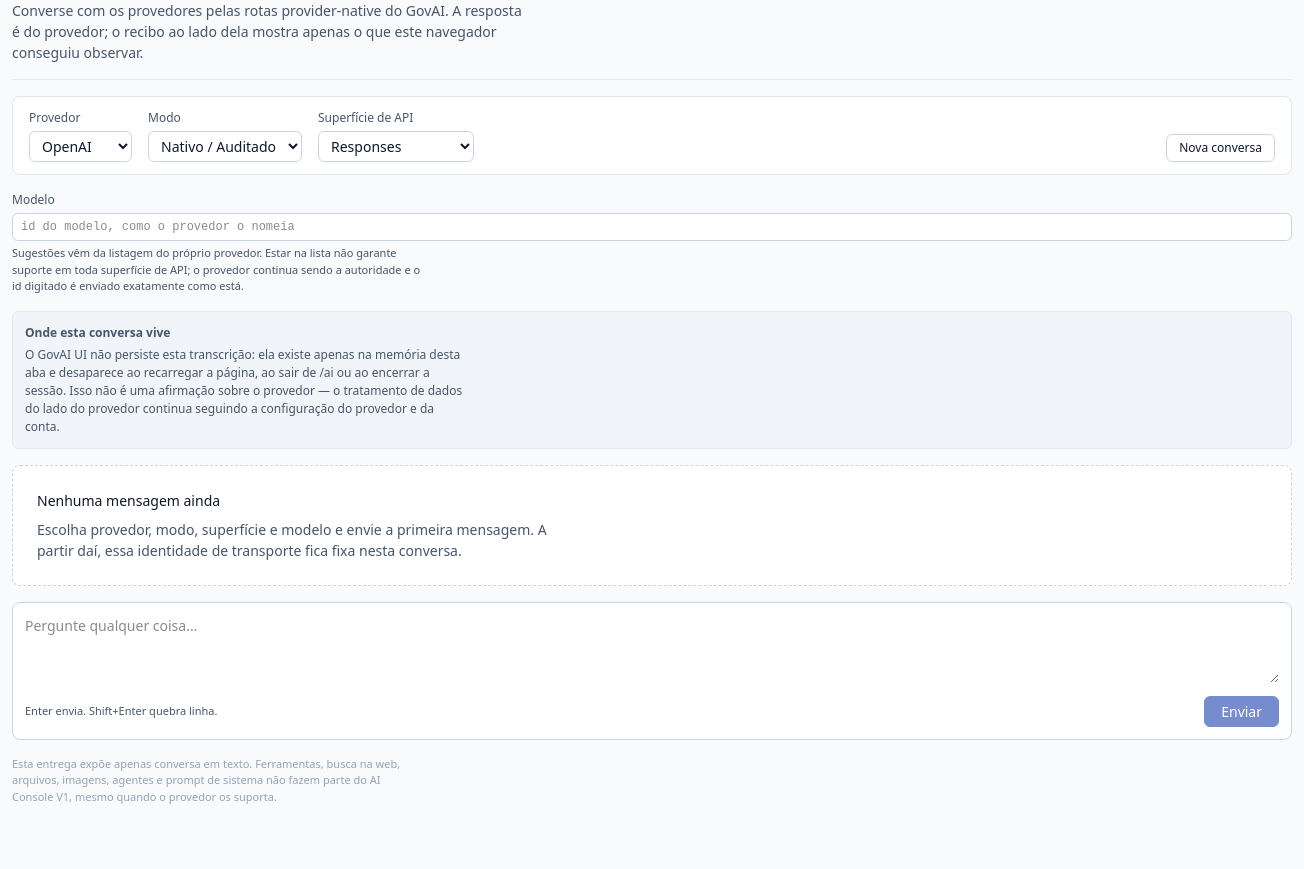
it: ★ recommendation and applied are TWO facts, never one › renders decision=ask + applied=forwarded without a word of approval or blocking
Select "Governado" in the dropdown with test id "mode-select" at (225, 146), box x1=148 y1=131 x2=302 y2=162
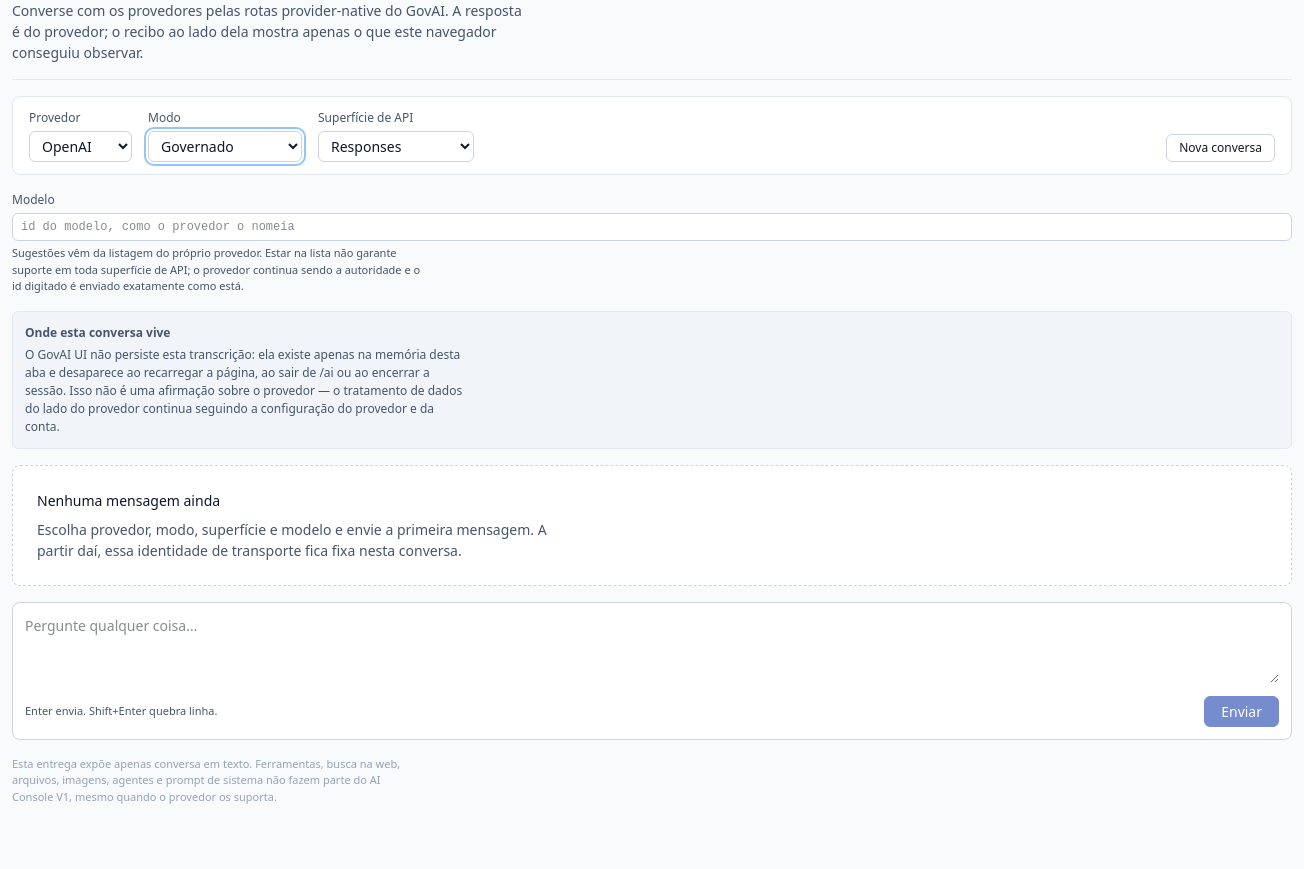
Type "a-model" into the field with test id "model-input".
click(652, 227); type("a-model")  # box x1=12 y1=213 x2=1292 y2=241
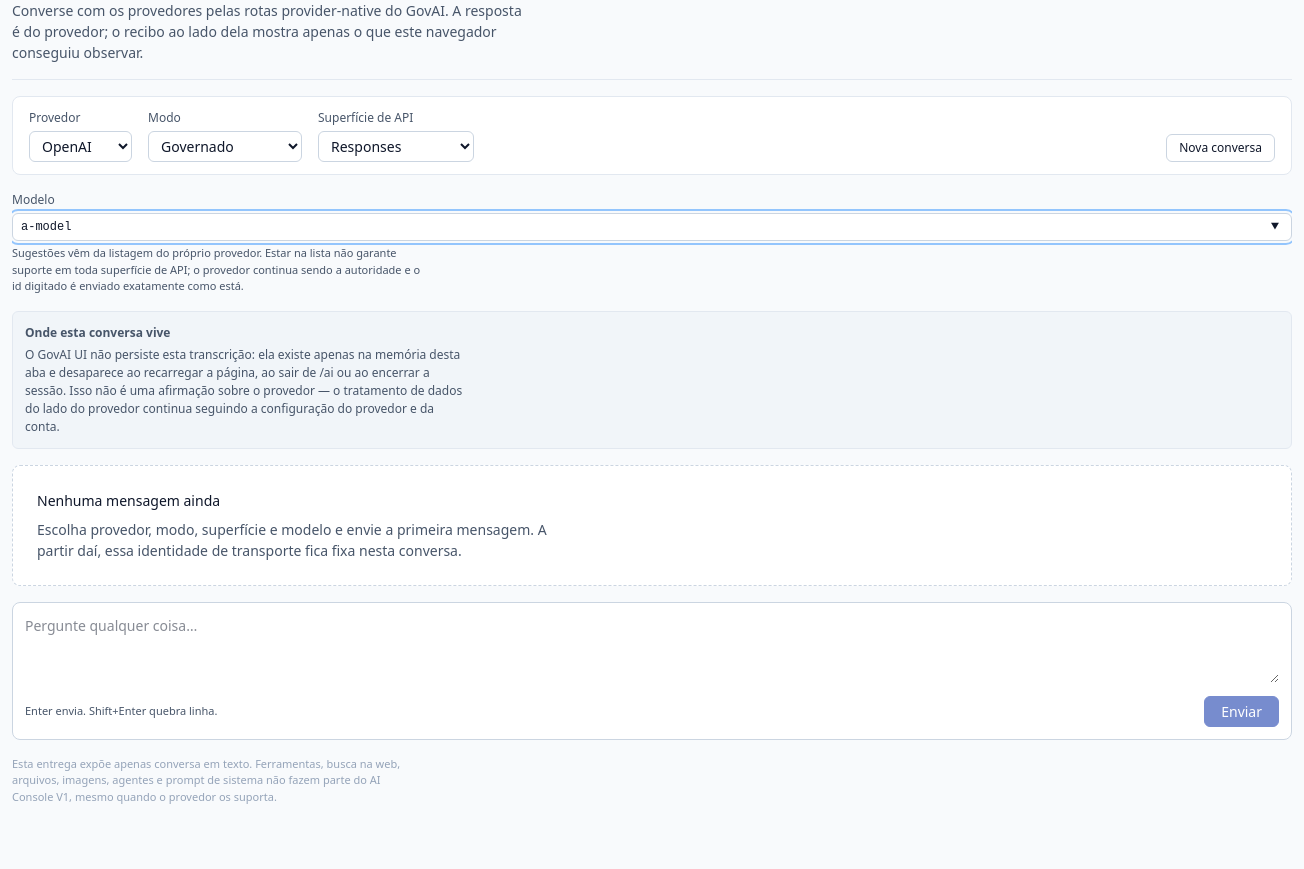
Type "a question" into the text box with test id "composer-input".
click(652, 649); type("a question")  # box x1=25 y1=614 x2=1279 y2=683
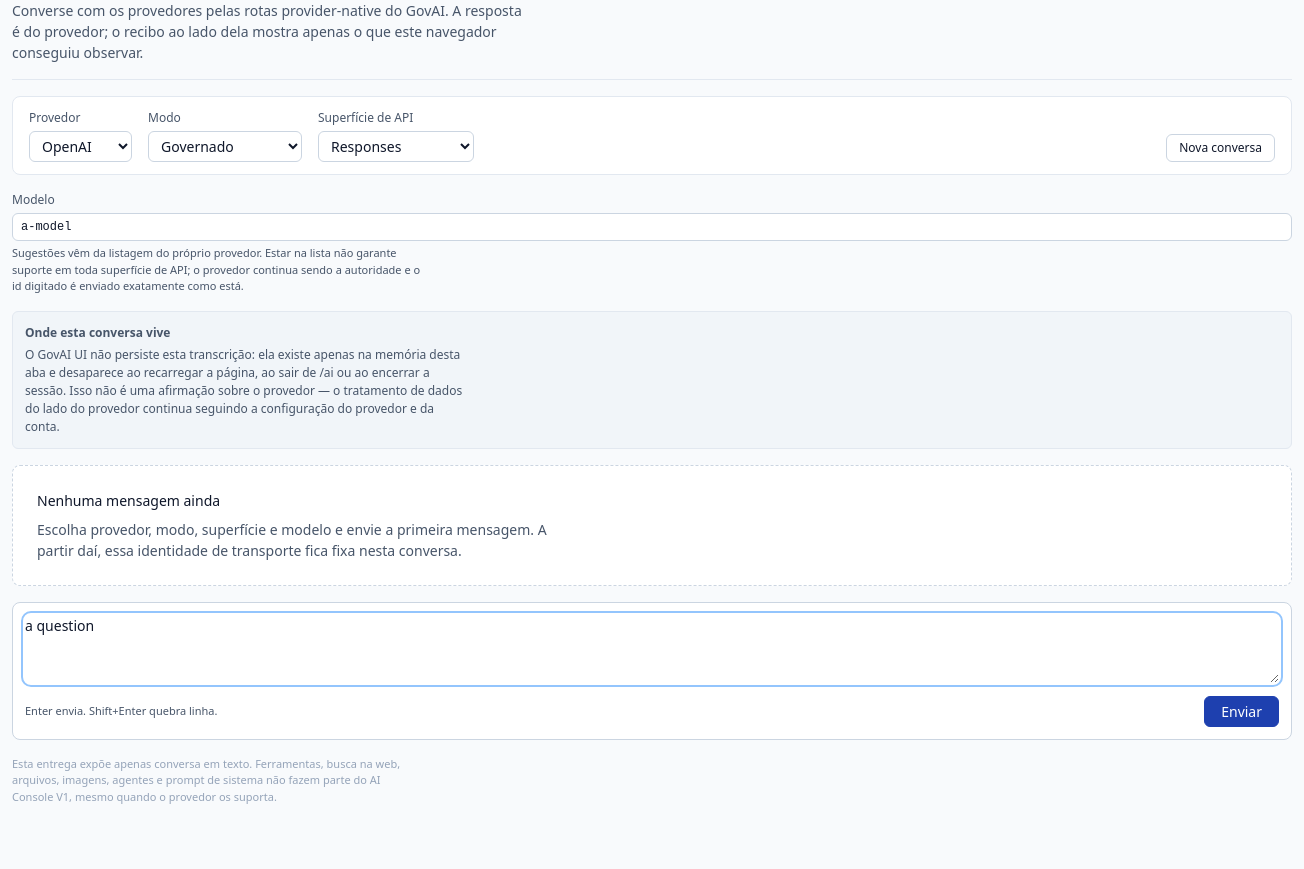
Click the button with test id "composer-send".
click(1242, 711)  # box x1=1204 y1=696 x2=1279 y2=727
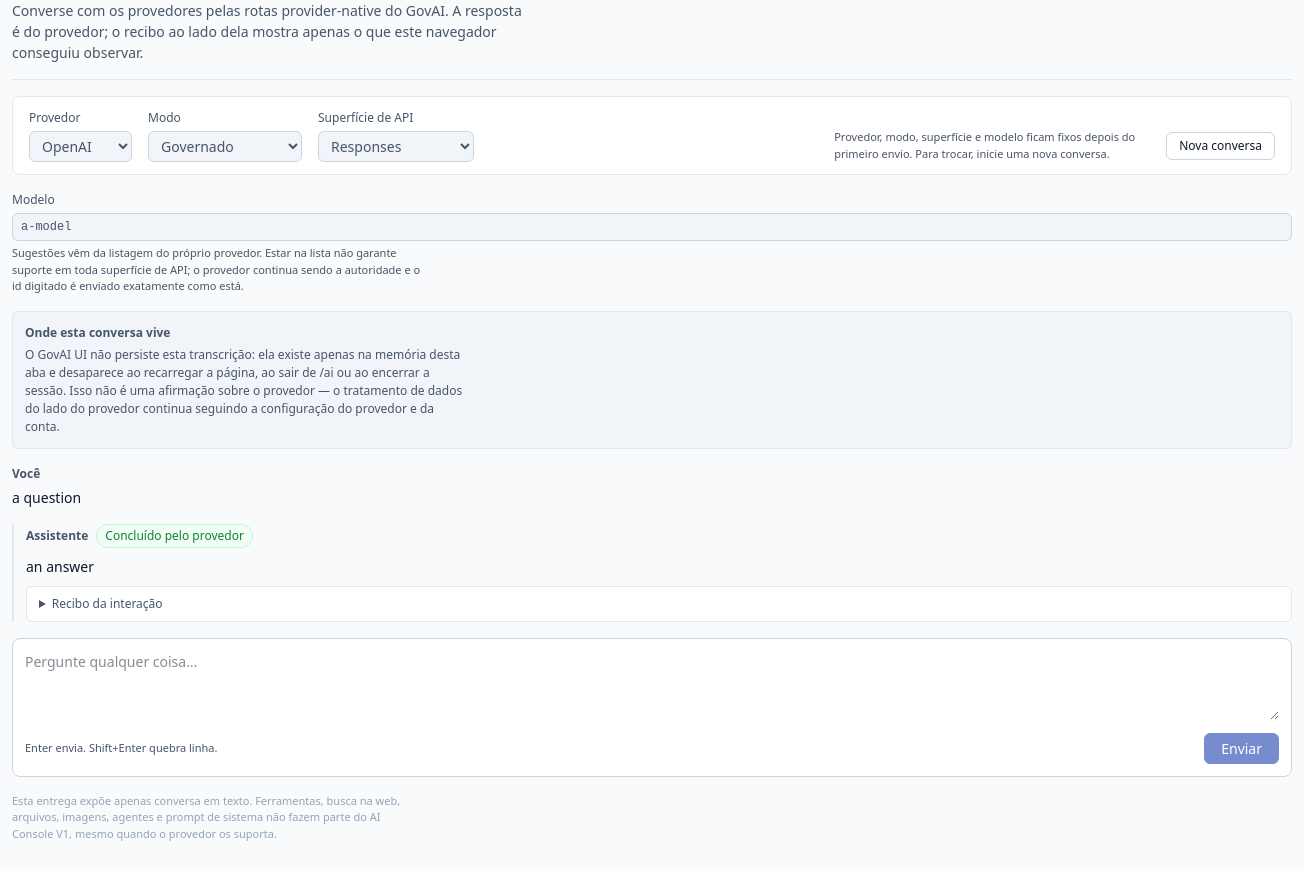
expect the text "an answer" is shown: met, box x1=26 y1=556 x2=94 y2=576
Click the heading "Recibo da interação".
click(107, 604)  # box x1=52 y1=595 x2=163 y2=612
(page scrolled)
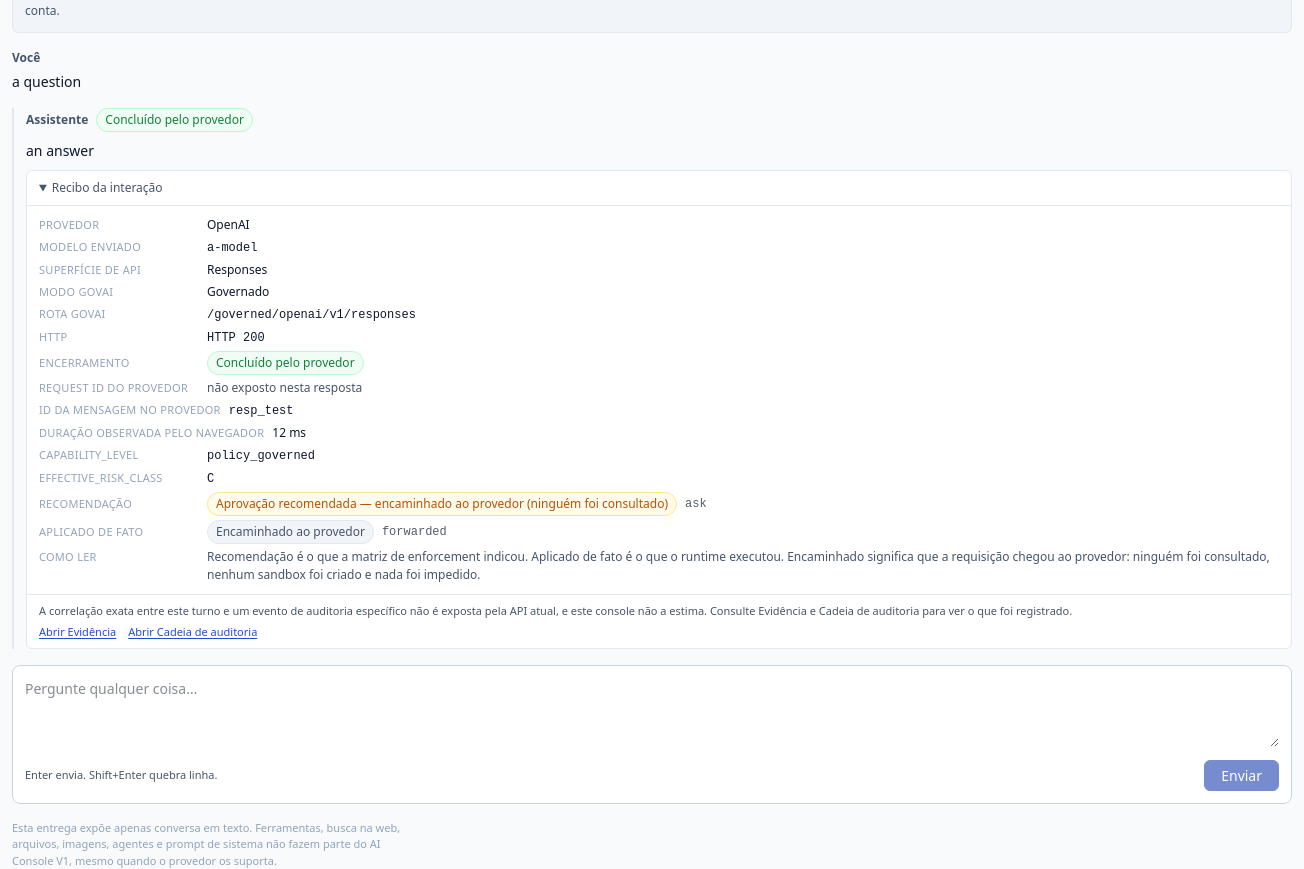
expect the element with test id "receipt-recommendation" shows "Aprovação recomendada — encaminhado ao provedor (ninguém foi consultado)": met, box x1=216 y1=495 x2=668 y2=512
expect the element with test id "receipt-recommendation" shows "ninguém foi consultado": met, box x1=216 y1=495 x2=668 y2=512
expect the element with test id "receipt-applied" shows "Encaminhado ao provedor": met, box x1=216 y1=523 x2=365 y2=540
